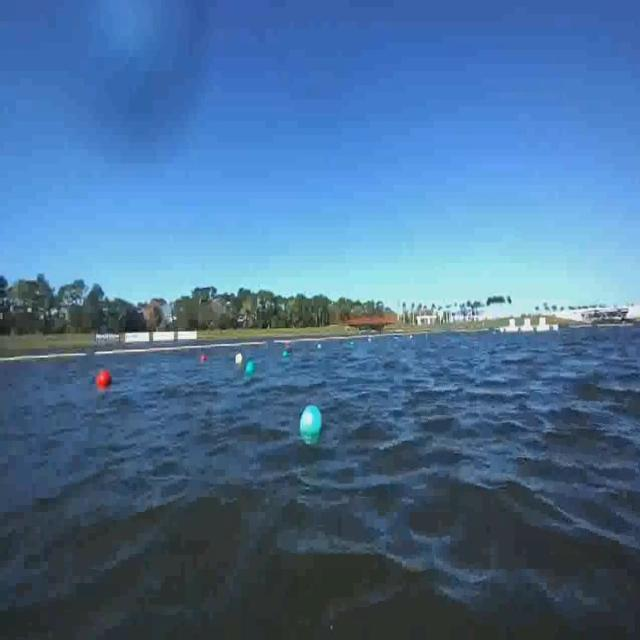green-buoy: (299, 406, 321, 438), (246, 359, 256, 376)
red-buoy: (96, 370, 111, 387)
